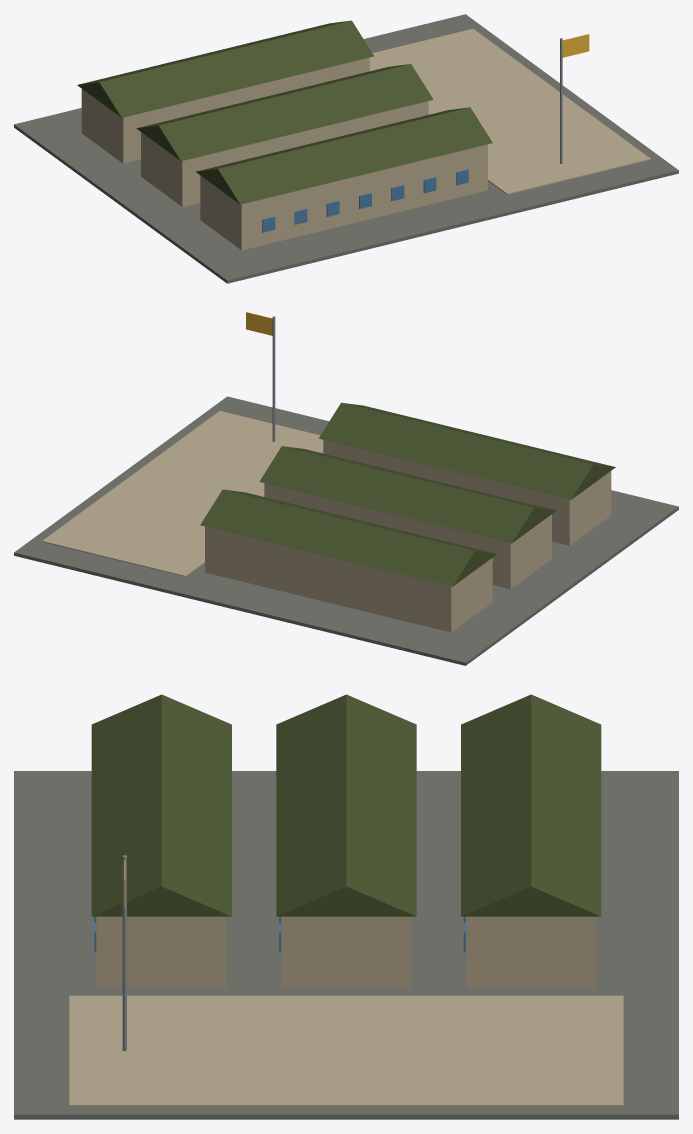
The model's file is barracks.glb.
3 renders of one model, top to bottom at view 1: azimuth 30°, elevation 25°; view 2: azimuth 150°, elevation 25°; view 3: azimuth 270°, elevation 25°, orthographic. The views are drawn at different scales.
Parts seen in each view (by area): view 1: barracks; view 2: barracks; view 3: barracks.
Boxes of the visible parts, bbox=[...] form: barracks: bbox=[14, 14, 678, 283]; barracks: bbox=[14, 312, 678, 665]; barracks: bbox=[14, 694, 678, 1119].
Bounding box in the file's own units: 44 × 12 × 36.
